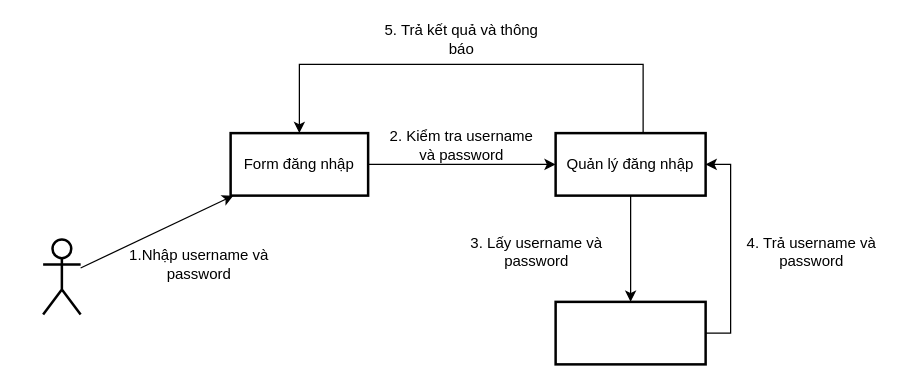
Some shapes in this 914 by 388 pixel diagram are drawn without their labels. The shapes that lost their labels are listed below. From the top down, each one's centre as x and y in pixels, then its label:
At point 61,276: "Người dùng".
At point 630,332: "Tài khoản".
